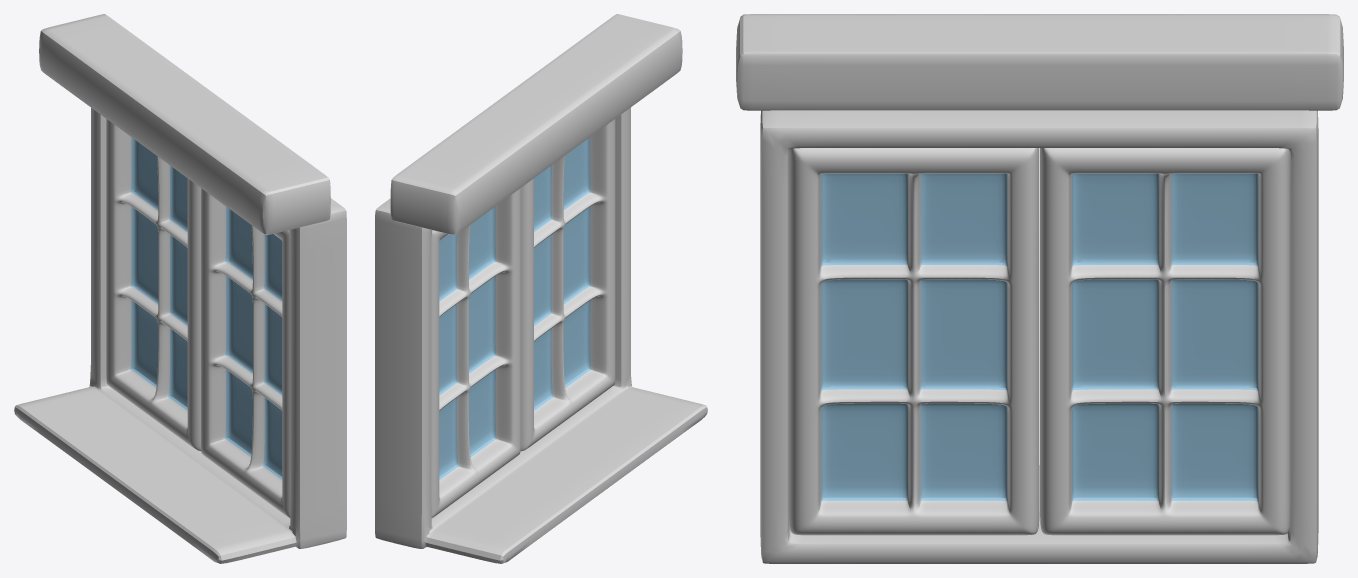
Rendered from Window.fbx.
3 renders of one model, left to right at view 1: azimuth 30°, elevation 25°; view 2: azimuth 150°, elevation 25°; view 3: azimuth 270°, elevation 25°, orthographic. The views are drawn at different scales.
Visible parts, largest first — view 1: Cube.021; view 2: Cube.021; view 3: Cube.021.
Boxes of the visible parts, x1,y1,x2,y2 form: Cube.021: [14, 14, 346, 563]; Cube.021: [375, 14, 707, 563]; Cube.021: [736, 14, 1343, 563].
Bounding box in the file's own units: 87.07 × 243 × 270.
